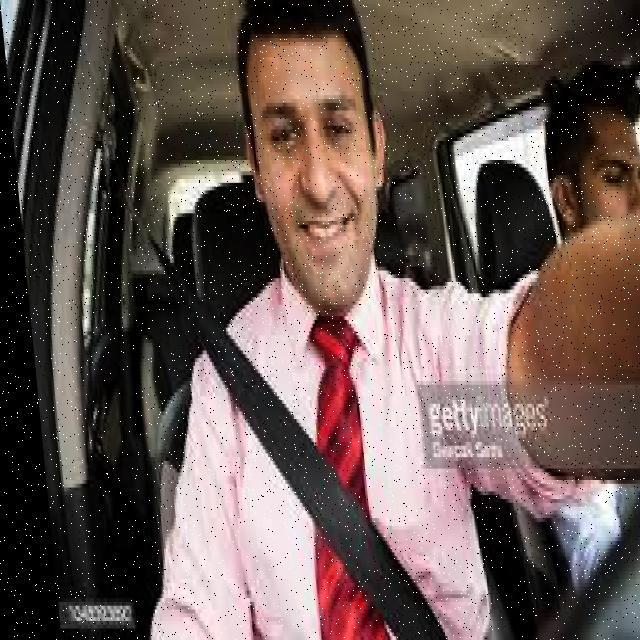seatbelt: (170, 247, 453, 640)
